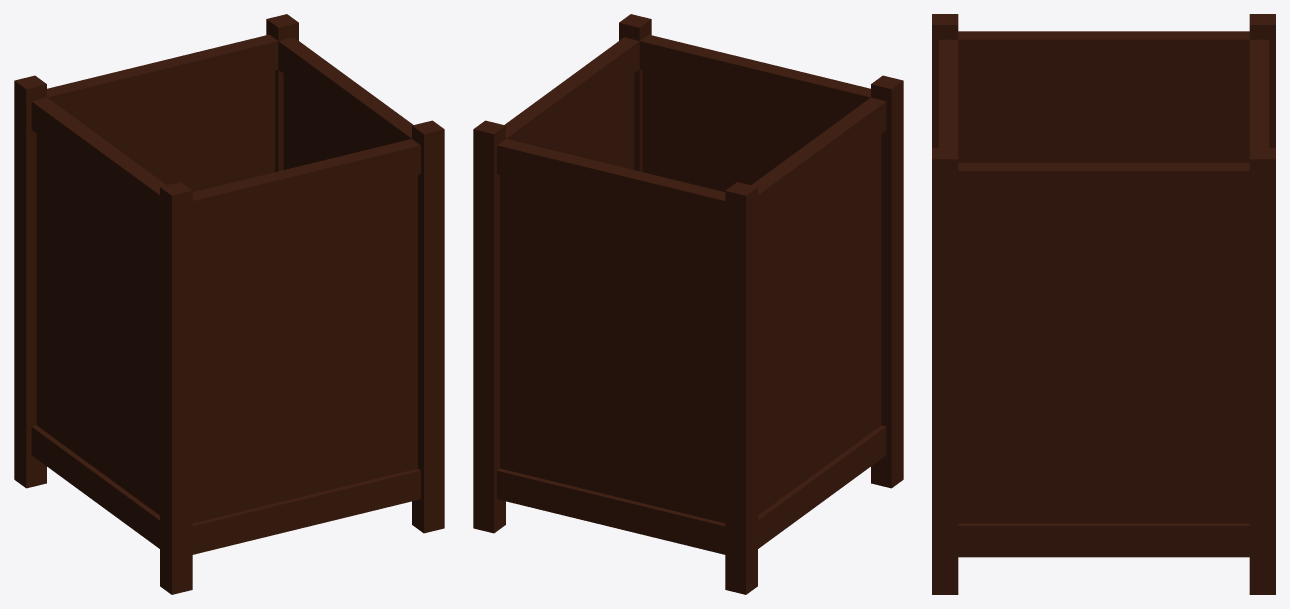
The model's file is lantern02.fbx.
3 views of the same model, side by side, from view 1: azimuth 30°, elevation 25°; view 2: azimuth 150°, elevation 25°; view 3: azimuth 270°, elevation 25° (orthographic). The views are drawn at different scales.
Parts seen in each view (by area): view 1: lantern02; view 2: lantern02; view 3: lantern02.
Part boxes in pixels (box(x1,y1,x2,y2)): lantern02: box(14, 14, 444, 594); lantern02: box(473, 14, 903, 594); lantern02: box(932, 14, 1275, 594).
Bounding box in the file's own units: 35.75 × 50 × 35.75.
